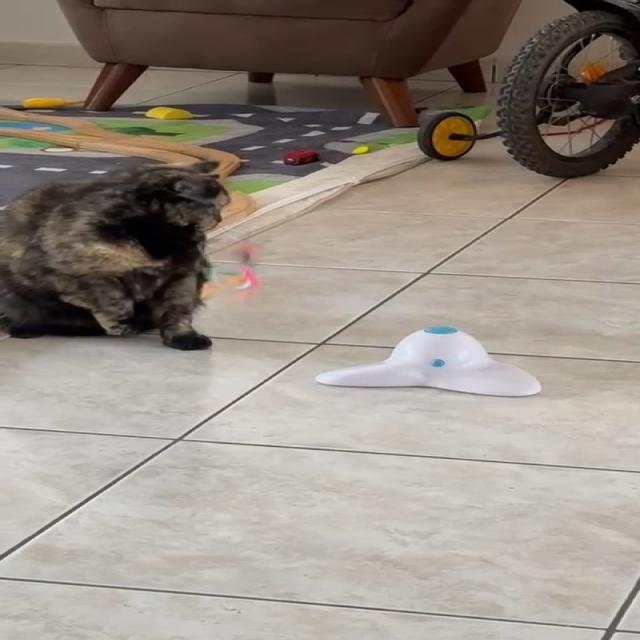authorized: (0, 158, 231, 351)
